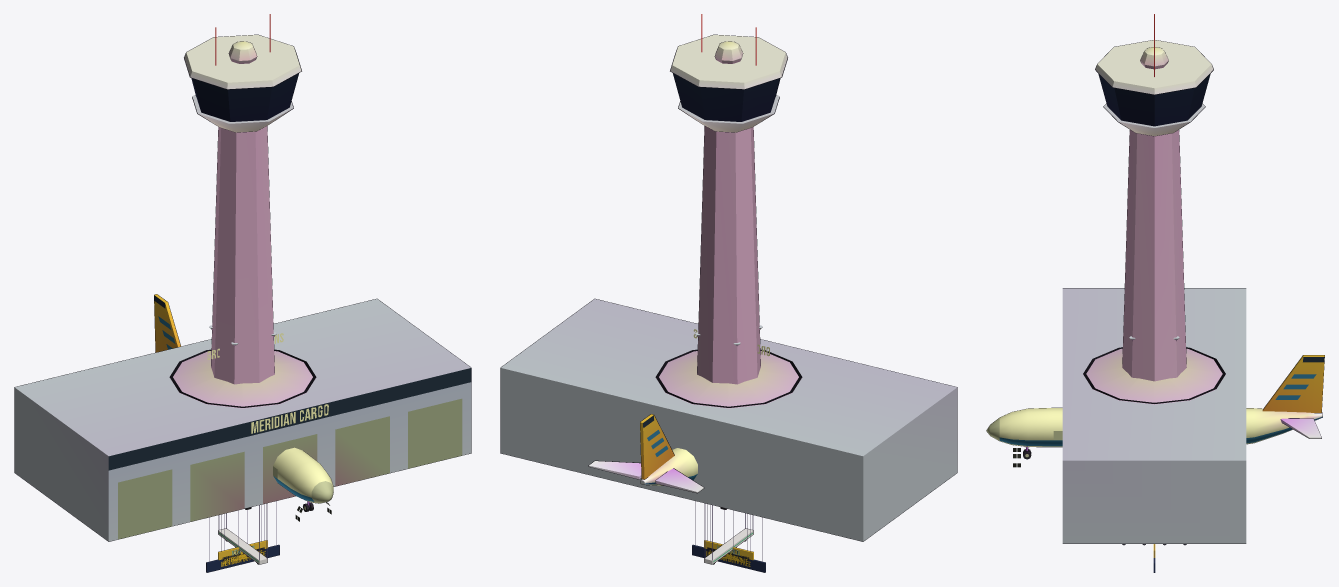
The model's file is fps-kit-airport.glb.
The picture shows the model from 3 angles, left to right: view 1: azimuth 30°, elevation 25°; view 2: azimuth 150°, elevation 25°; view 3: azimuth 270°, elevation 25°; orthographic projection. The views are drawn at different scales.
Parts seen in each view (by area): view 1: KIT_AIRPORT_Bk_Shed, KIT_AIRPORT_Bk_Tower, KIT_AIRPORT_Bk_Tank, KIT_AIRPORT_Jet_Body, KIT_AIRPORT_Gantry, KIT_AIRPORT_Sg_DF; view 2: KIT_AIRPORT_Bk_Shed, KIT_AIRPORT_Bk_Tower, KIT_AIRPORT_Bk_Tank, KIT_AIRPORT_Jet_Body, KIT_AIRPORT_Gantry, KIT_AIRPORT_Sg_DF; view 3: KIT_AIRPORT_Bk_Shed, KIT_AIRPORT_Bk_Tower, KIT_AIRPORT_Jet_Body, KIT_AIRPORT_Bk_Tank.
Part boxes in pixels (left/top/right/bottom): KIT_AIRPORT_Bk_Shed: left=14, top=298, right=471, bottom=541; KIT_AIRPORT_Bk_Tower: left=184, top=14, right=301, bottom=384; KIT_AIRPORT_Bk_Tank: left=169, top=349, right=316, bottom=408; KIT_AIRPORT_Jet_Body: left=154, top=294, right=333, bottom=521; KIT_AIRPORT_Gantry: left=218, top=503, right=267, bottom=564; KIT_AIRPORT_Sg_DF: left=206, top=501, right=279, bottom=572; KIT_AIRPORT_Bk_Shed: left=500, top=298, right=957, bottom=541; KIT_AIRPORT_Bk_Tower: left=670, top=14, right=787, bottom=384; KIT_AIRPORT_Bk_Tank: left=655, top=349, right=802, bottom=408; KIT_AIRPORT_Jet_Body: left=588, top=414, right=704, bottom=493; KIT_AIRPORT_Gantry: left=704, top=503, right=753, bottom=564; KIT_AIRPORT_Sg_DF: left=692, top=501, right=765, bottom=572; KIT_AIRPORT_Bk_Shed: left=1062, top=288, right=1246, bottom=543; KIT_AIRPORT_Bk_Tower: left=1095, top=14, right=1213, bottom=381; KIT_AIRPORT_Jet_Body: left=986, top=355, right=1324, bottom=467; KIT_AIRPORT_Bk_Tank: left=1083, top=347, right=1225, bottom=404.
Bounding box in the file's own units: 40.04 × 57.22 × 33.25.
Materials: 1 (1 with a texture image).
